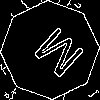M: (25, 25, 87, 87)
